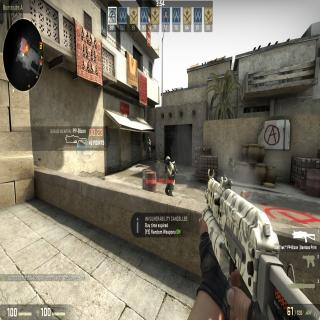CT-Body: (164, 155, 176, 196), (227, 154, 236, 180), (146, 136, 151, 158)
CT-Head: (165, 155, 171, 165), (229, 154, 233, 162), (147, 136, 150, 141)
